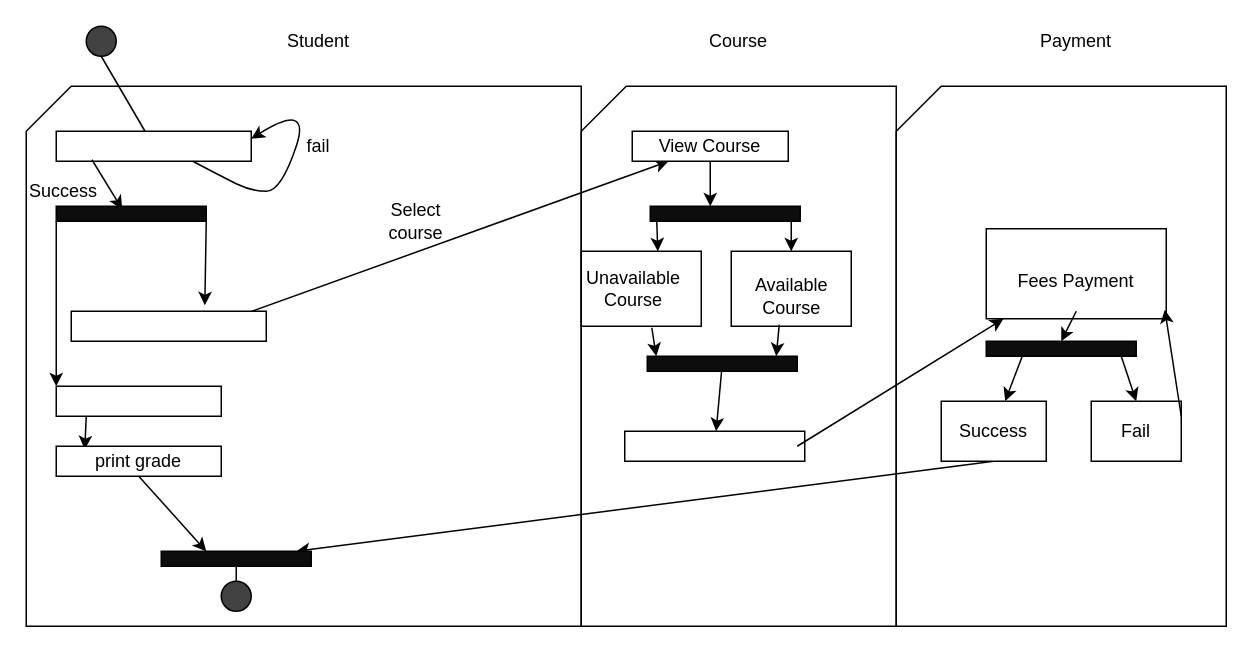
This 1253x653 diagram has some shape labels left out. Each missing label, with the box of its shape:
Complete Slection: (623, 430, 805, 461)
login/registration: (55, 130, 251, 161)
Register for the Course: (70, 310, 266, 341)
Show Grades: (55, 385, 221, 416)
